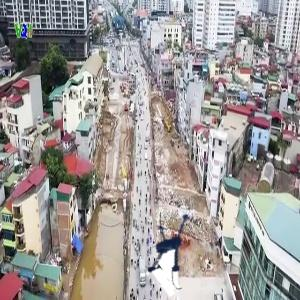drone: (134, 205, 216, 287)
